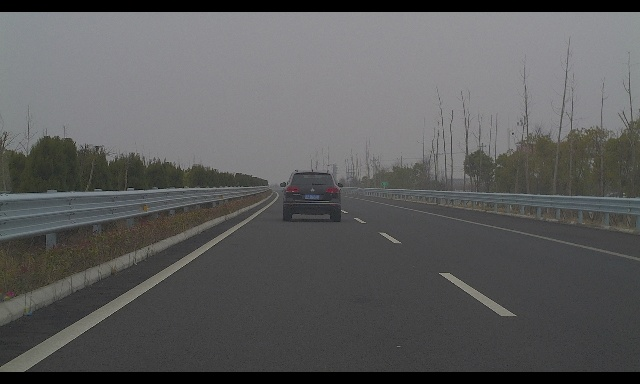car: (279, 169, 344, 221)
